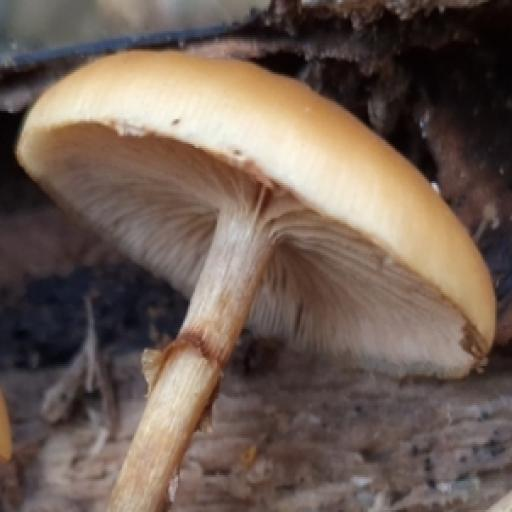mushroom: (11, 41, 491, 429)
